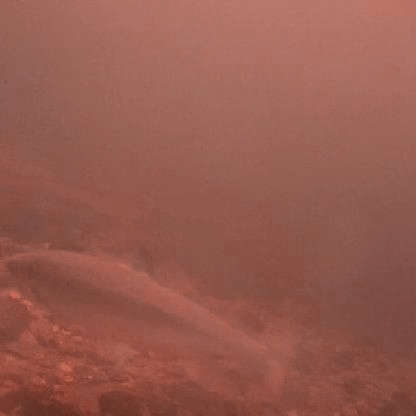salmon: (0, 241, 307, 412)
